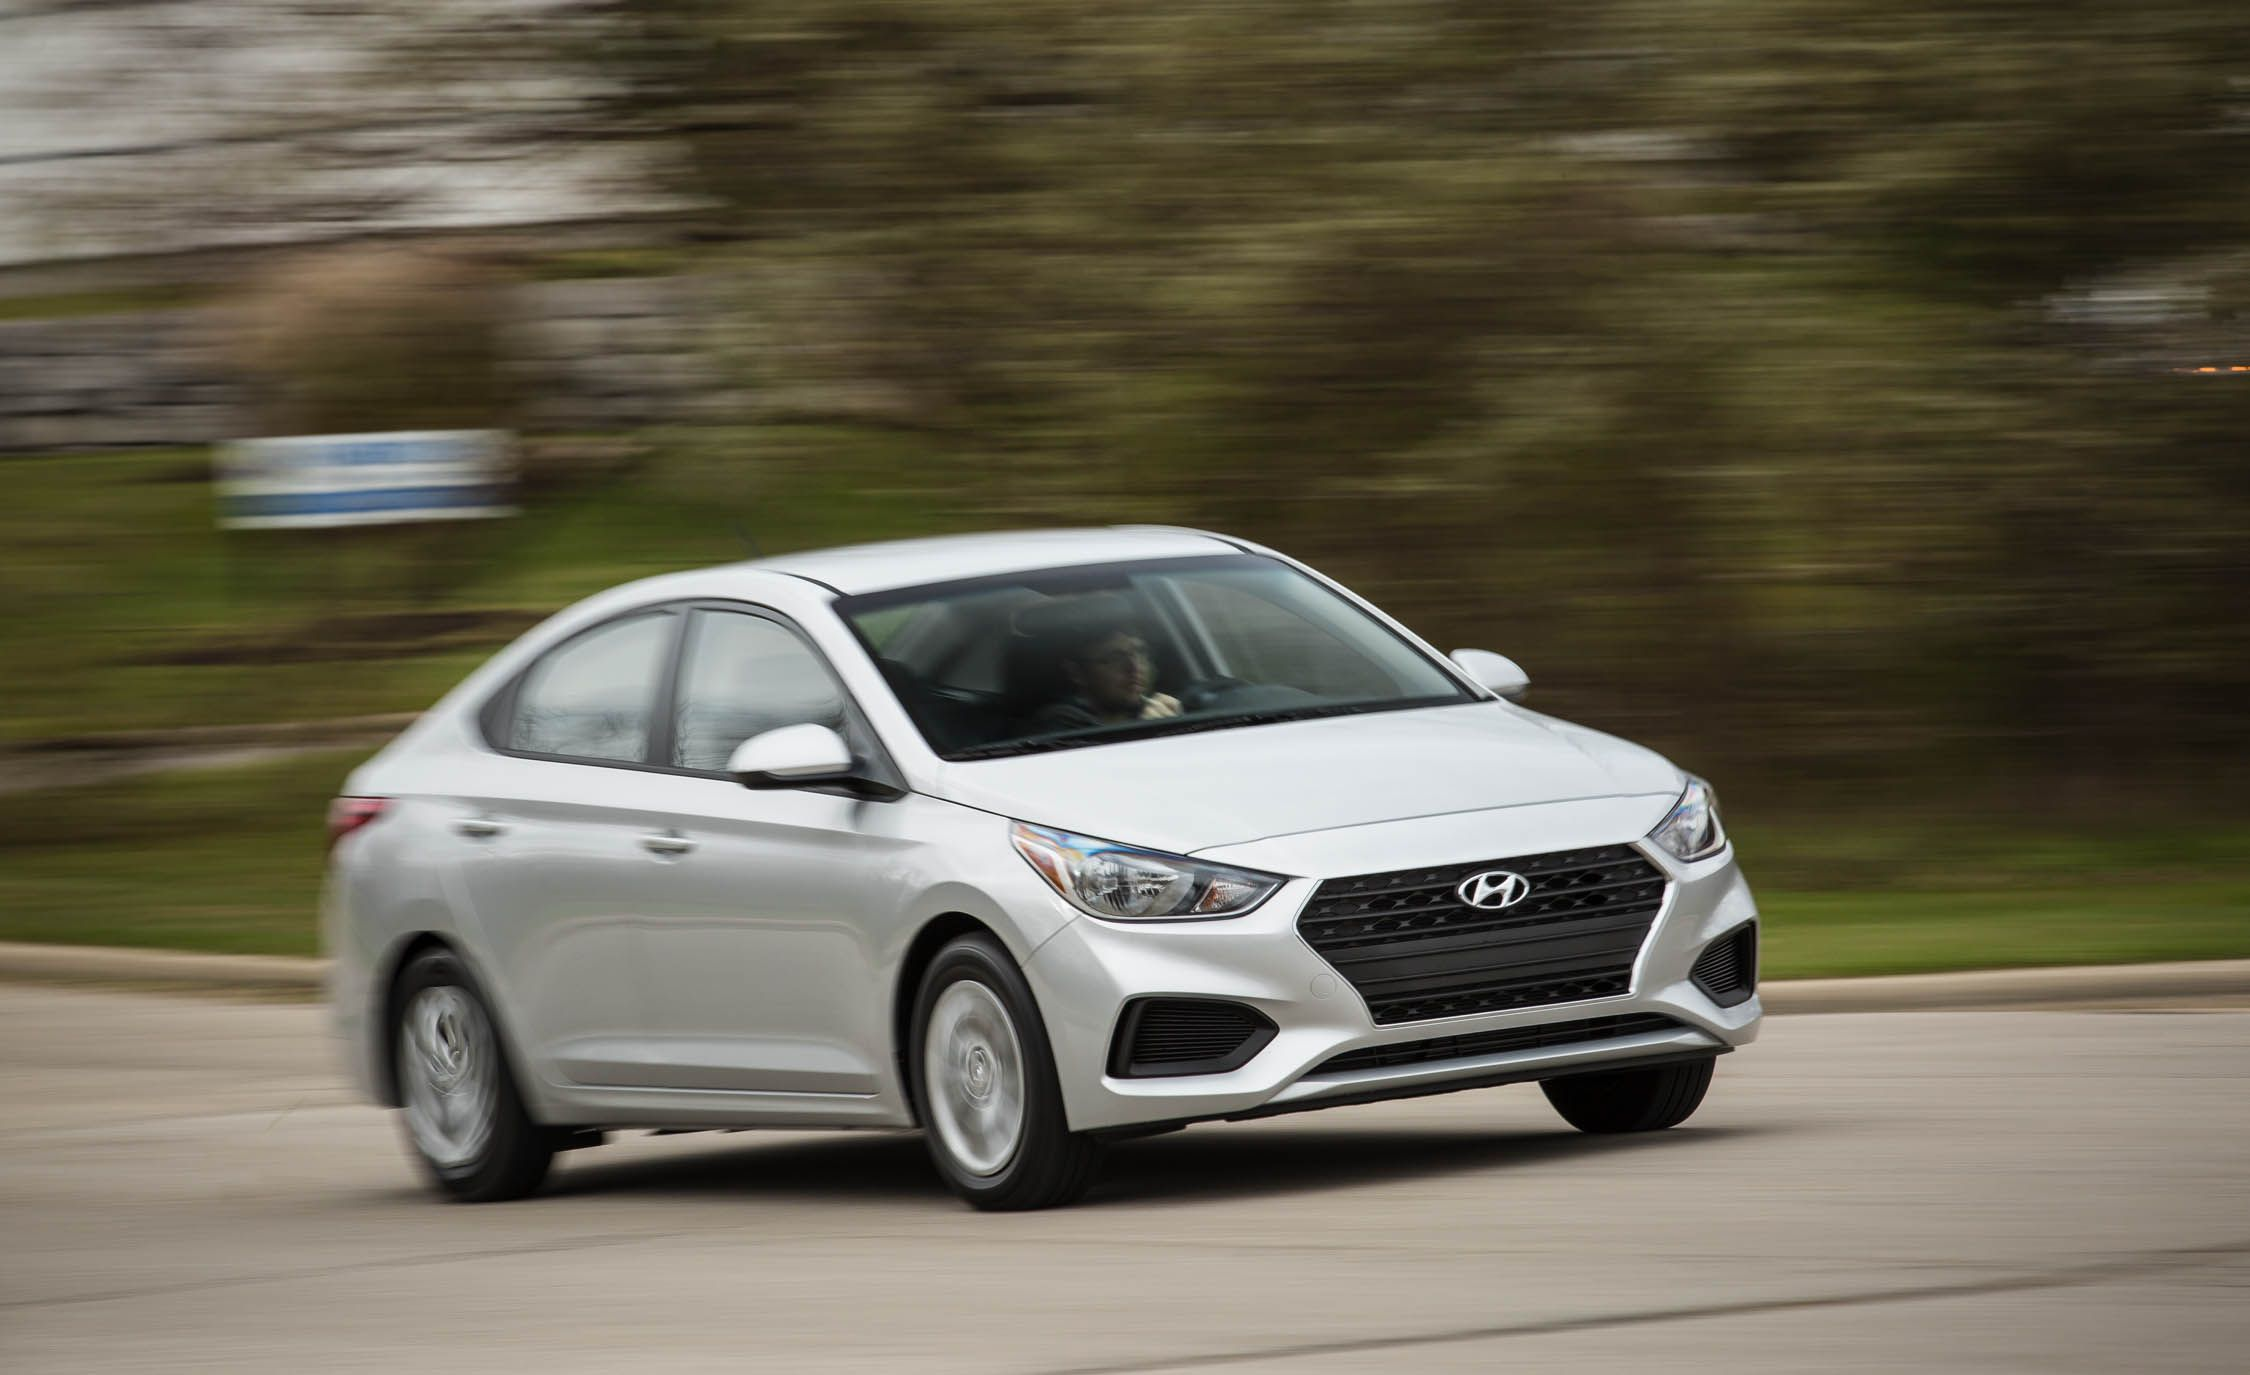accent: (223, 508, 1798, 1214)
